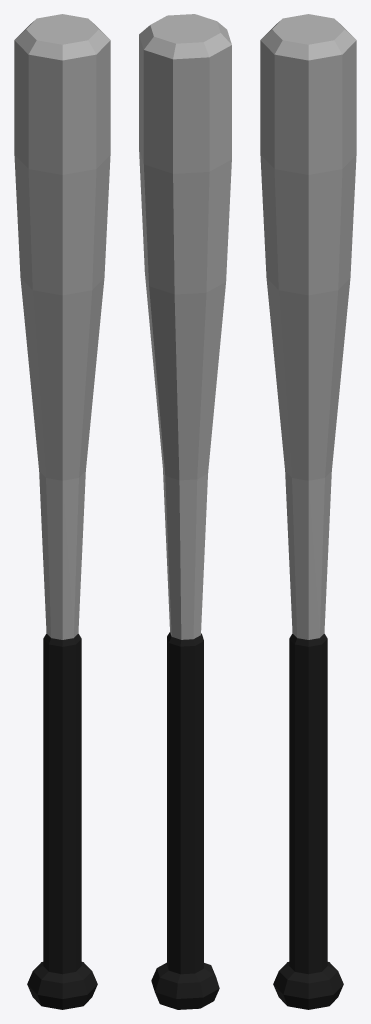
File: Baseball Bat.obj
3 views of the same model, side by side, from view 1: azimuth 90°, elevation 25°; view 2: azimuth 210°, elevation 25°; view 3: azimuth 270°, elevation 25° (orthographic).
Parts seen in each view (by area): view 1: Baseball_Bat_Cylinder.001; view 2: Baseball_Bat_Cylinder.001; view 3: Baseball_Bat_Cylinder.001.
Part boxes in pixels (<box>): Baseball_Bat_Cylinder.001: <box>14,14,110,1009</box>; Baseball_Bat_Cylinder.001: <box>139,14,231,1009</box>; Baseball_Bat_Cylinder.001: <box>260,14,356,1009</box>.
Size of the model in its own units: 0.0701 by 0.7792 by 0.0701.
